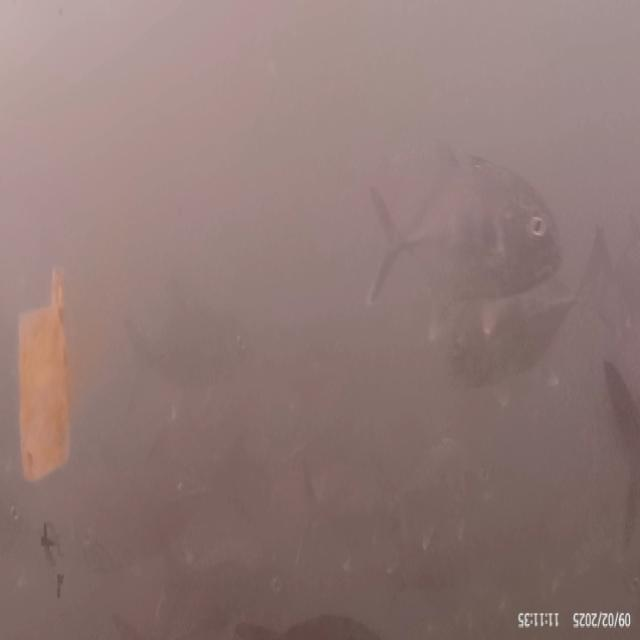ikan: (366, 140, 592, 344)
